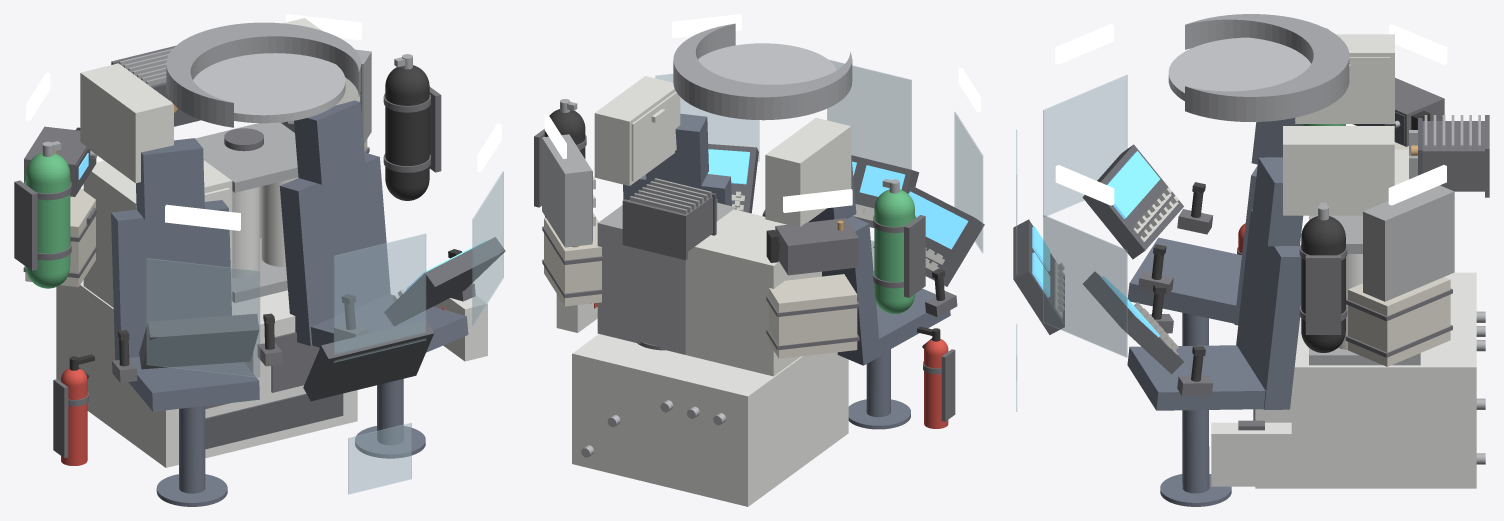
The model's file is cmd09_lander_cabin_cutaway.glb.
3 views of the same model, side by side, from view 1: azimuth 30°, elevation 25°; view 2: azimuth 150°, elevation 25°; view 3: azimuth 270°, elevation 25° (orthographic). The views are drawn at different scales.
Parts seen in each view (by area): view 1: window_glass_inner, seat_1, seat_2, eq07_1_body, hatch_tunnel_1, stowage_lockers, hatch_door_1, main_panel, eq08_1_frame, side_panel_l, eq10_1_cylinder, eq21_1_body (+18 smaller); view 2: eq07_1_body, stowage_lockers, eq21_1_body, window_glass_inner, eq08_1_frame, seat_1, hatch_tunnel_1, eq19_1_bag, eq06_1_enclosure, hatch_door_1, eq15_1_body, seat_2 (+22 smaller); view 3: eq07_1_body, seat_2, window_glass_inner, stowage_lockers, hatch_tunnel_1, seat_1, eq06_1_enclosure, hatch_door_1, eq19_2_bag, eq14_1_case, light_panels, eq02_1_chassis (+16 smaller).
Part boxes in pixels (box(x1,y1,x2,y2)): window_glass_inner: box(146, 171, 503, 494); seat_1: box(111, 138, 259, 506); seat_2: box(279, 100, 468, 458); eq07_1_body: box(56, 280, 357, 467); hatch_tunnel_1: box(166, 22, 360, 127); stowage_lockers: box(80, 18, 360, 183); hatch_door_1: box(193, 53, 345, 123); main_panel: box(303, 319, 433, 401); eq08_1_frame: box(195, 122, 298, 302); side_panel_l: box(139, 314, 259, 369); eq10_1_cylinder: box(385, 65, 429, 200); eq21_1_body: box(83, 160, 232, 307); eq07_1_body: box(572, 334, 848, 506); stowage_lockers: box(594, 76, 851, 226); eq21_1_body: box(685, 209, 821, 376); window_glass_inner: box(655, 59, 983, 270); eq08_1_frame: box(597, 200, 736, 354); seat_1: box(808, 159, 950, 429); hatch_tunnel_1: box(673, 23, 852, 120); eq19_1_bag: box(769, 274, 857, 358); eq06_1_enclosure: box(542, 134, 592, 247); hatch_door_1: box(698, 43, 836, 84); eq15_1_body: box(775, 218, 858, 275); seat_2: box(623, 113, 731, 205); eq07_1_body: box(1255, 272, 1476, 488); seat_2: box(1127, 157, 1303, 506); window_glass_inner: box(1016, 75, 1127, 411); stowage_lockers: box(1283, 34, 1394, 215); hatch_tunnel_1: box(1185, 14, 1349, 121); seat_1: box(1127, 118, 1302, 345); eq06_1_enclosure: box(1363, 185, 1454, 301); hatch_door_1: box(1168, 37, 1310, 100); eq19_2_bag: box(1348, 277, 1450, 366); eq14_1_case: box(1211, 422, 1291, 486); light_panels: box(1055, 24, 1447, 205); eq02_1_chassis: box(1422, 121, 1484, 191).
Size of the model in its own units: 2.13 by 1.91 by 2.13.
